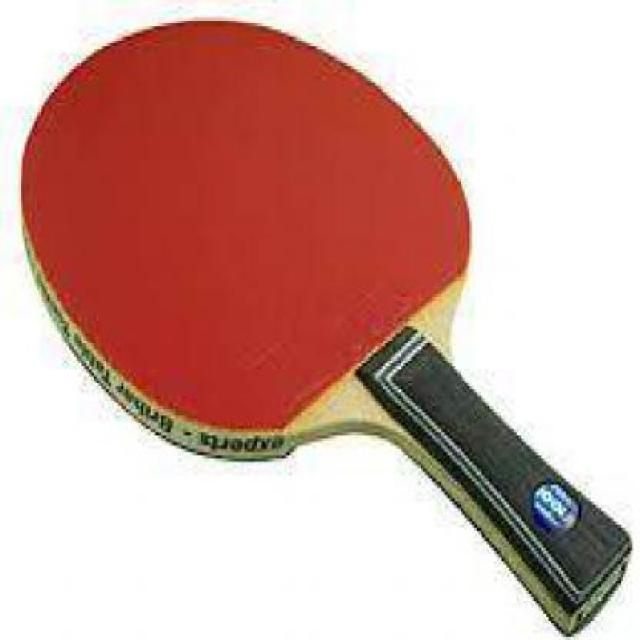table_tennis_racket: (10, 11, 481, 470)
